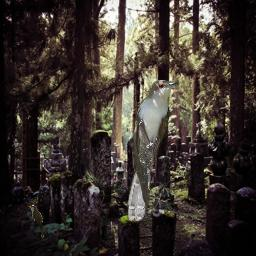Cuckoo: (126, 78, 179, 221), (28, 205, 44, 238)
